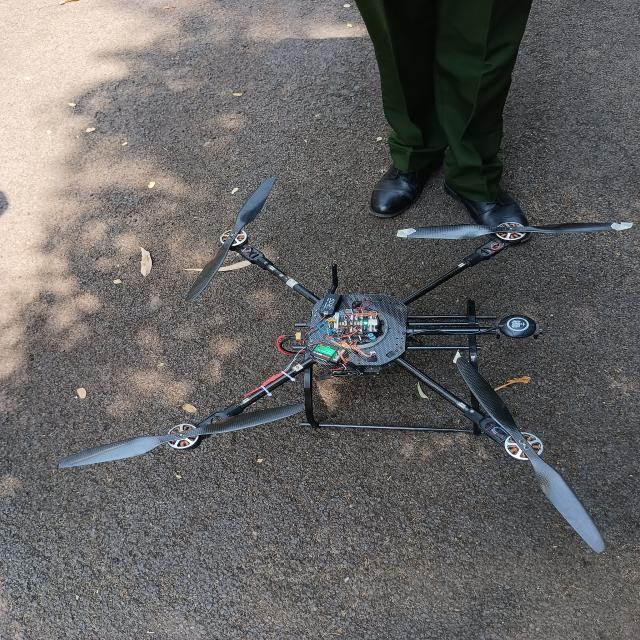drone: (31, 176, 640, 572)
